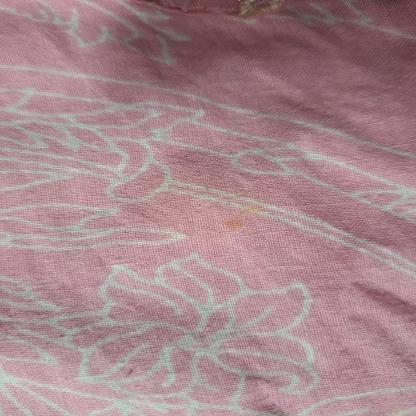spot: (224, 205, 262, 230), (230, 192, 252, 198)
